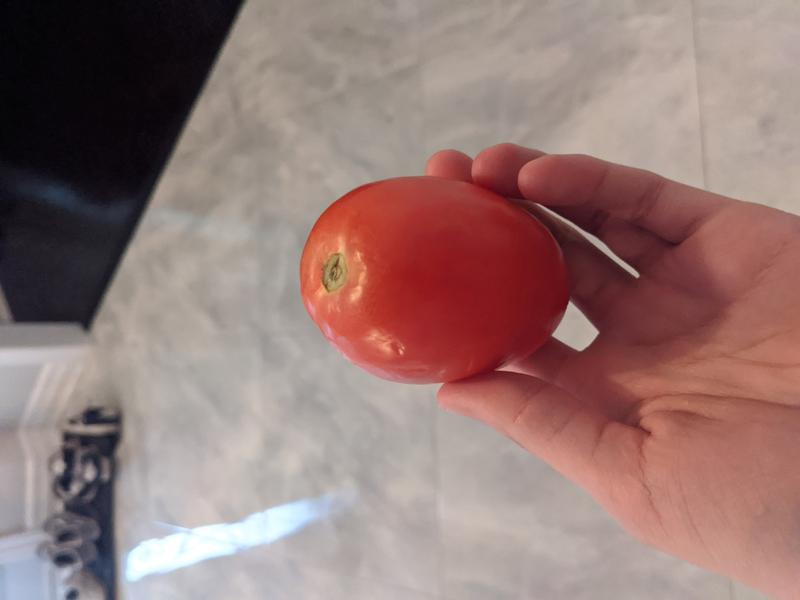tomato: (298, 175, 573, 384)
